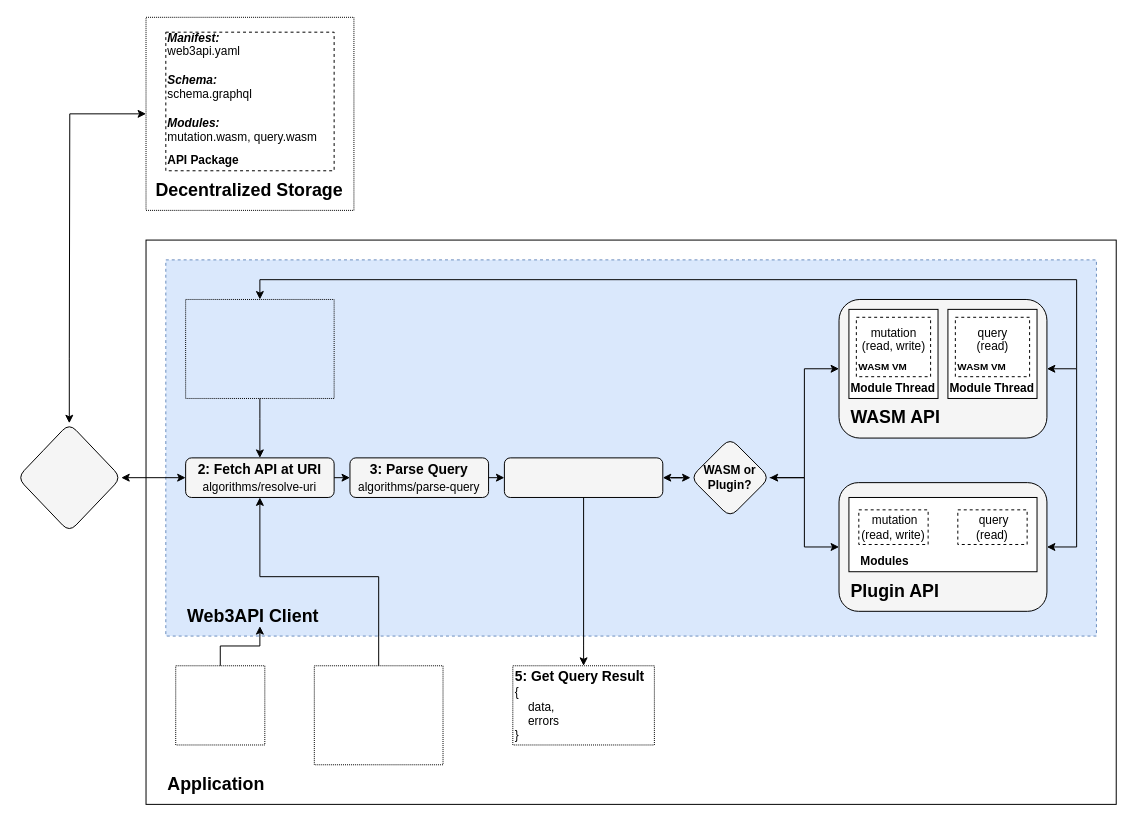
Some shapes in this 1134 by 822 pixel diagram are drawn without their labels. The centre of each missing label's shape, as x and y in pixels:
0: Initialize { uri_redirects, plugins }: point (220, 705)
1: Query an API { uri, query, arguments }: point (378, 715)
4.1: Sub-Query an API { uri, query, arguments }: point (259, 348)
4: Perform Invocations on API Modules: point (583, 477)
URI is external, and not a plugin?: point (68, 477)
